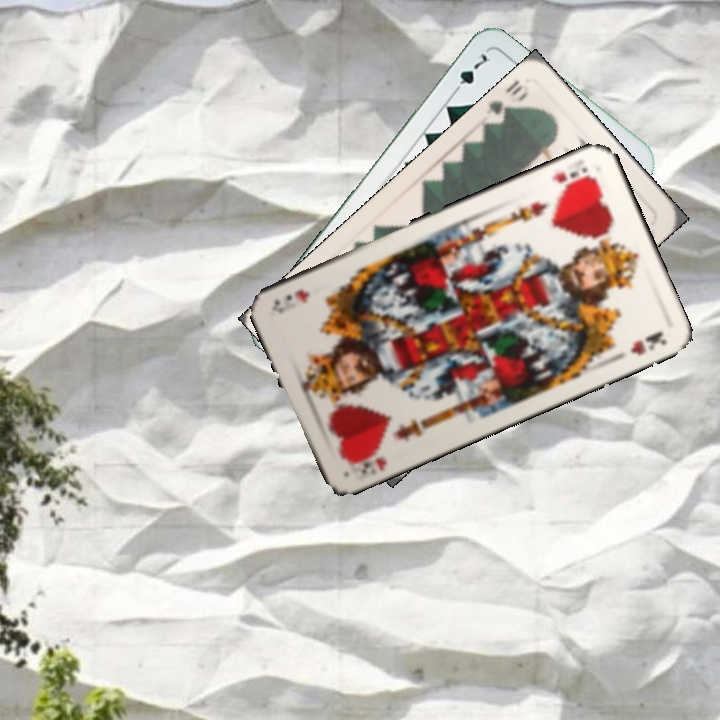G10: (482, 76, 532, 128)
G7: (448, 49, 492, 99)
HK: (547, 162, 597, 194), (344, 444, 390, 477)
